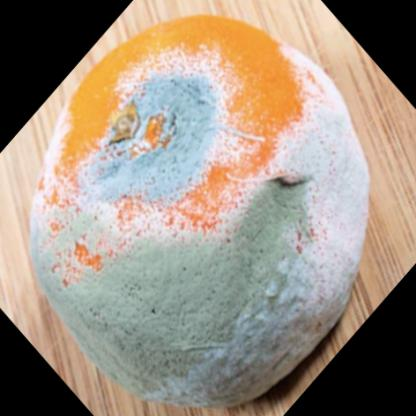rotten: (32, 17, 372, 411)
